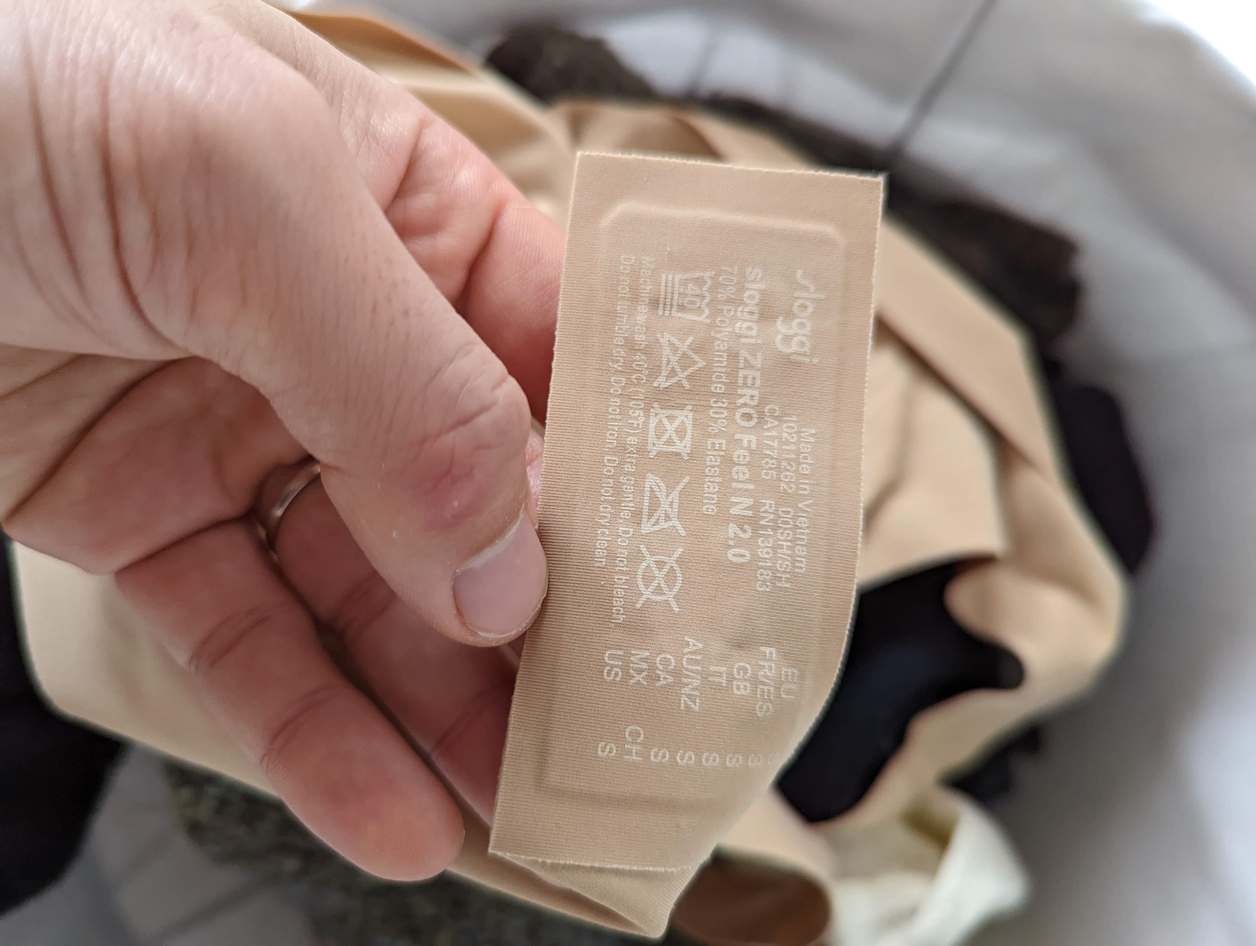ER_no_bleach: (652, 328, 708, 397)
ER_no_dry_clean: (635, 541, 690, 613)
ER_no_iron: (639, 469, 693, 537)
ER_no_tumble_dry: (645, 399, 697, 461)
ER_wash_40_mild: (656, 265, 717, 325)
